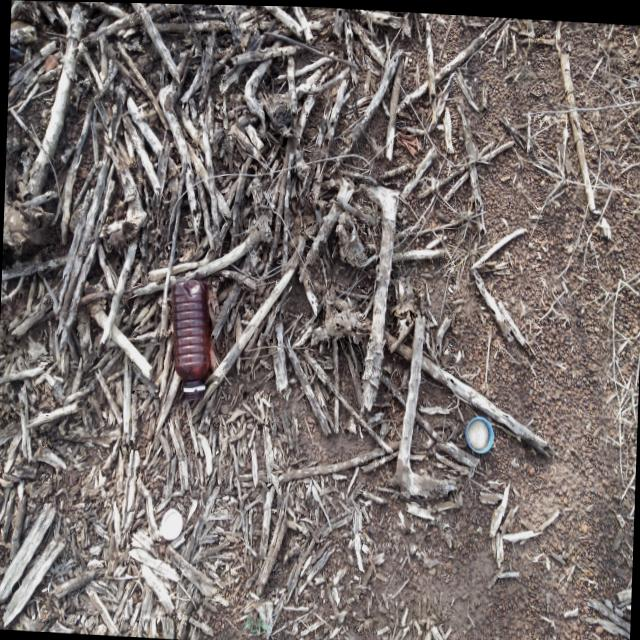Plastic: (162, 248, 222, 407), (457, 408, 498, 459)
